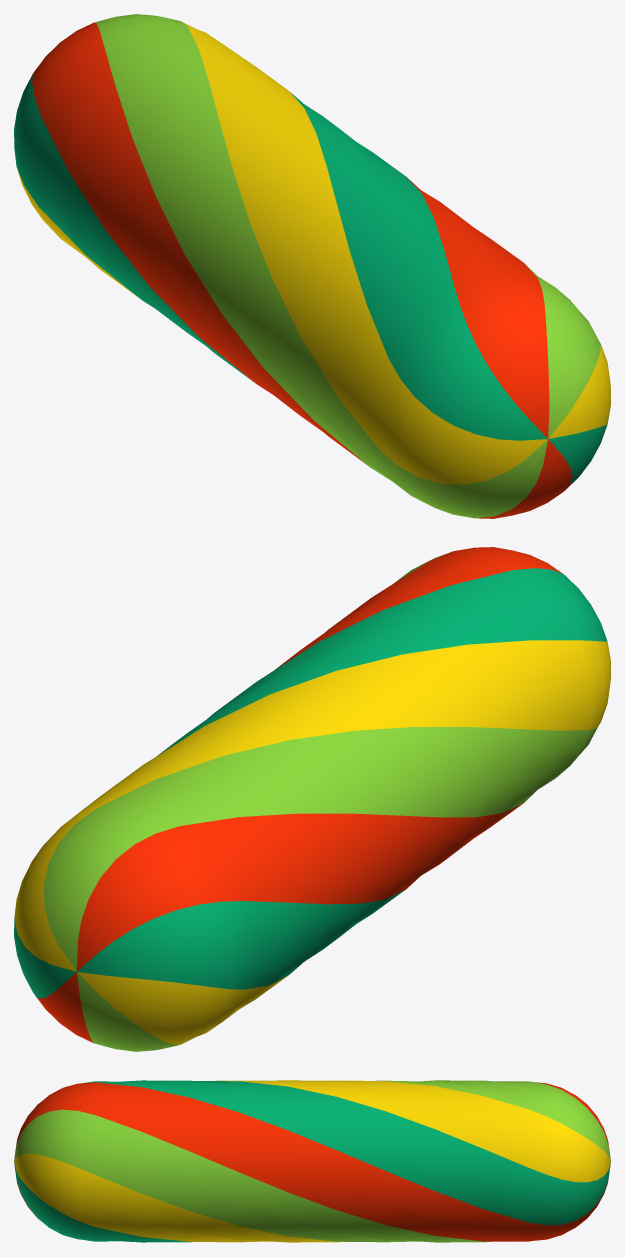
File: lollipop_032.glb
3 renders of one model, top to bottom at view 1: azimuth 30°, elevation 25°; view 2: azimuth 150°, elevation 25°; view 3: azimuth 270°, elevation 25°, orthographic. The views are drawn at different scales.
Parts seen in each view (by area): view 1: lollipop_032; view 2: lollipop_032; view 3: lollipop_032.
Part boxes in pixels (x1=…): lollipop_032: x1=14, y1=14, x2=610, y2=518; lollipop_032: x1=14, y1=547, x2=610, y2=1051; lollipop_032: x1=14, y1=1080, x2=610, y2=1242.
Size of the model in its own units: 4.86 by 4.86 by 17.92.
Materials: 1 (1 with a texture image).
